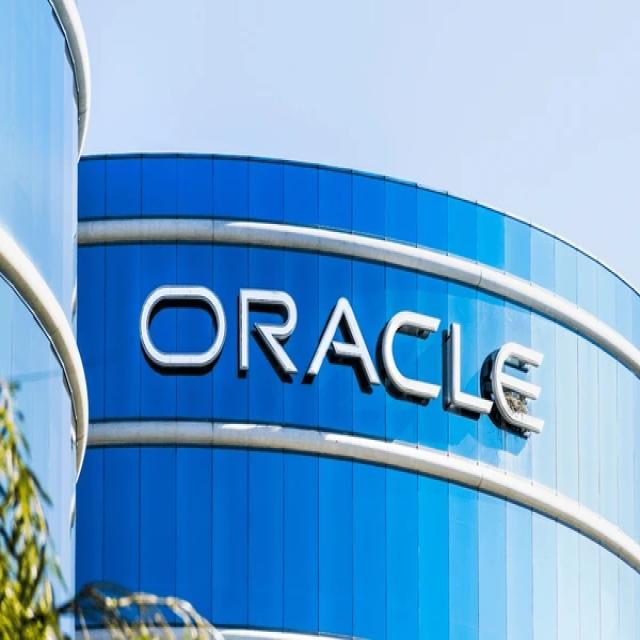oracle: (139, 280, 543, 441)
